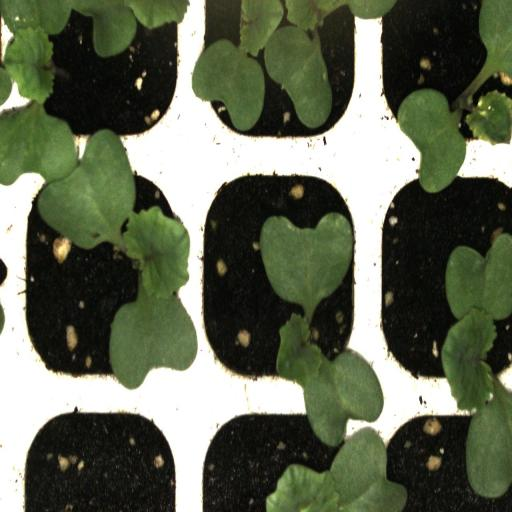seedling: (190, 153, 368, 400), (16, 158, 195, 400), (367, 154, 512, 396), (367, 0, 512, 163)
twoseedling: (192, 1, 368, 158)
